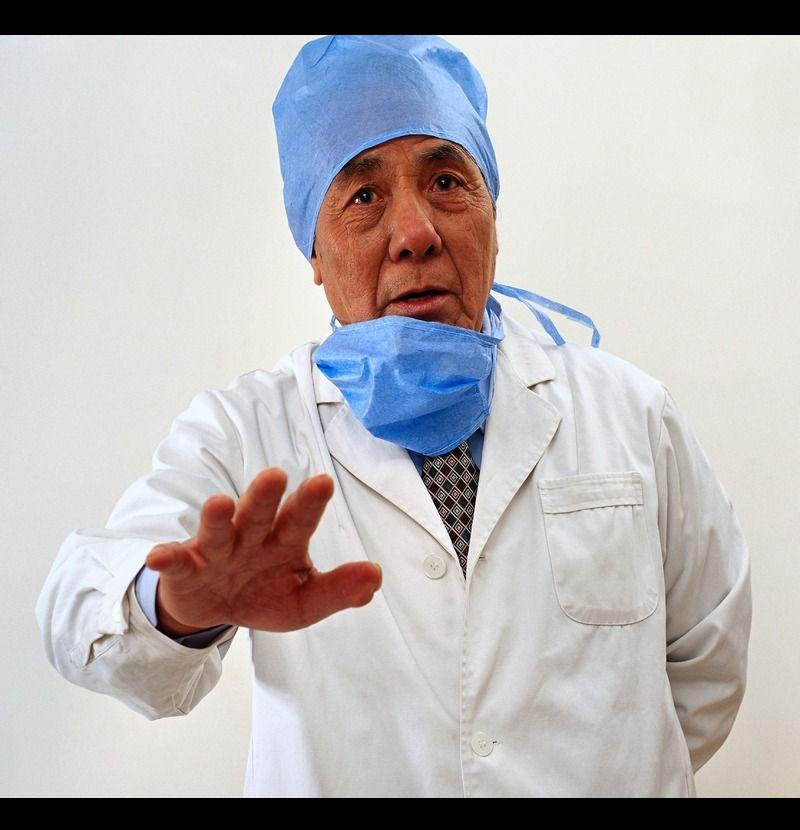WRONG: (307, 138, 505, 398)
